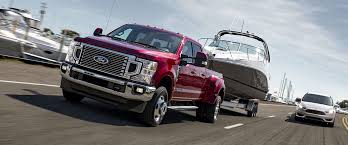Ford: (64, 19, 227, 126)
